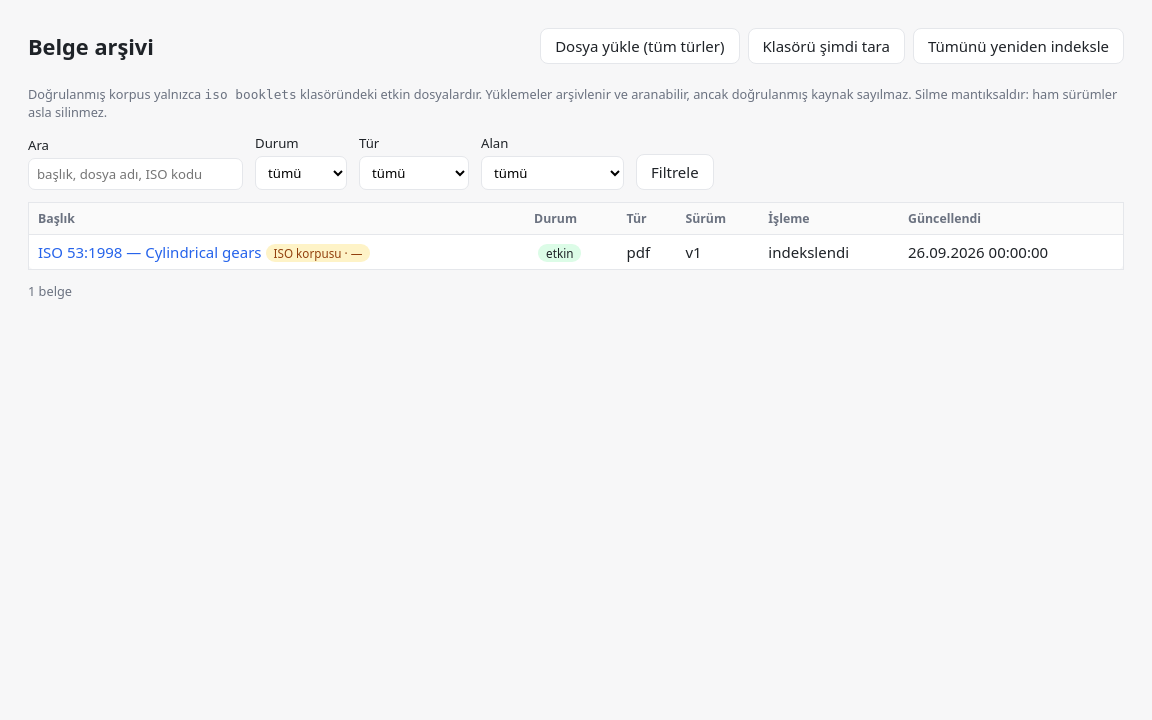
Test: Belge arşivi › yeniden indeksleme mesajı kalıcıdır ve silme ayrı onay ister
Click the button "ISO 53:1998 — Cylindrical gears".
click(150, 252)  # box [38,242,262,262]
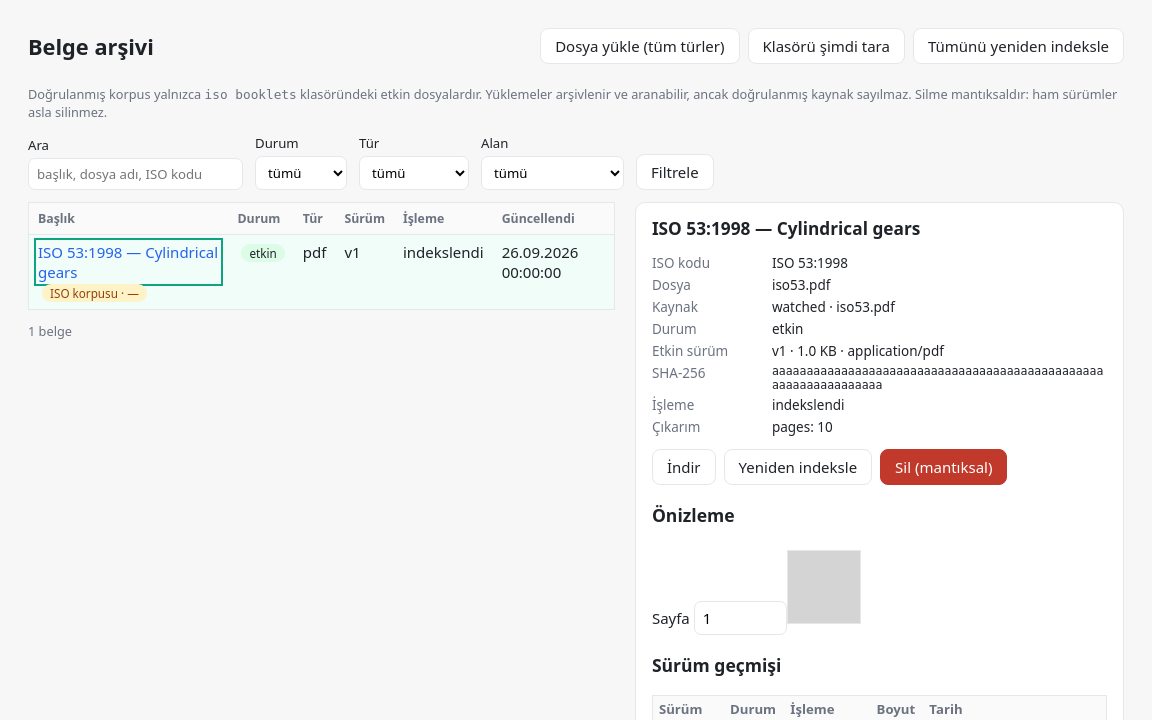
Check: the heading "ISO 53:1998 — Cylindrical gears" is shown, box [652,216,920,240]
Click the button "Yeniden indeksle".
click(798, 467)  # box [724,449,872,485]
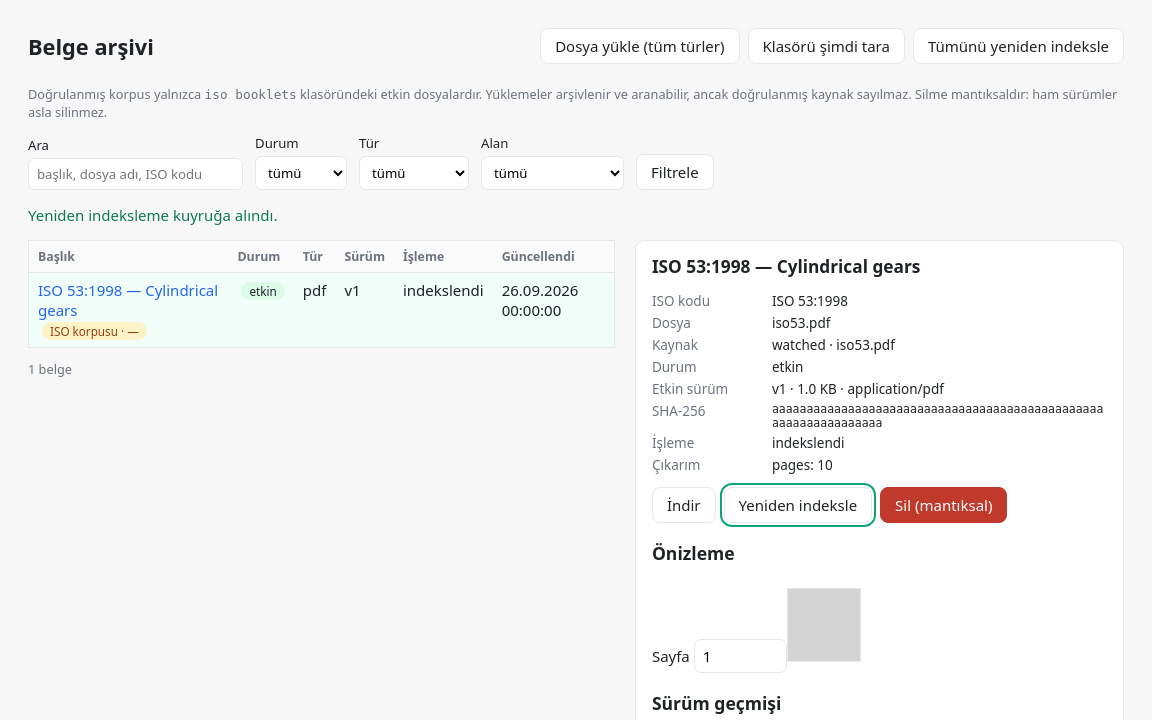
Check: the text "Yeniden indeksleme kuyruğa alındı." is shown, box [28,204,277,224]
Click the button "Sil (mantıksal)".
click(944, 505)  # box [880,487,1008,523]
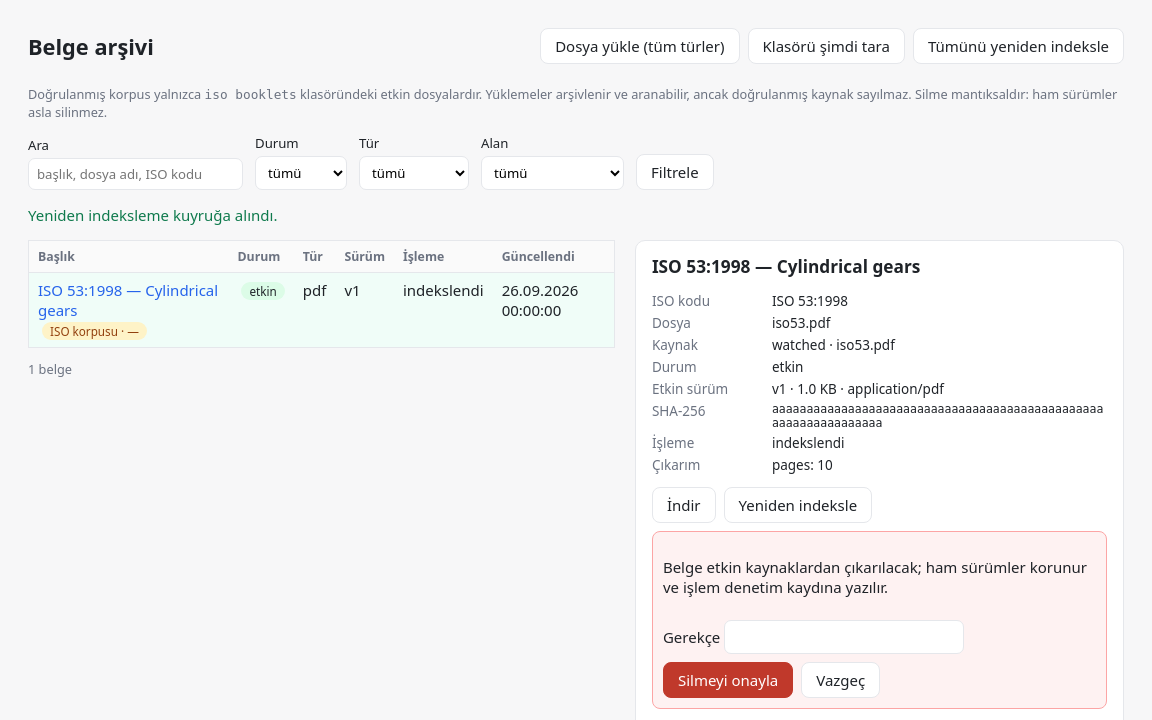
Check: the dialog named "Silme onayı" shows "ham sürümler korunur", box [663,557,1087,597]
Type "eski revizyon" into the field labelled "Gerekçe".
click(844, 637); type("eski revizyon")  # box [724,620,964,654]
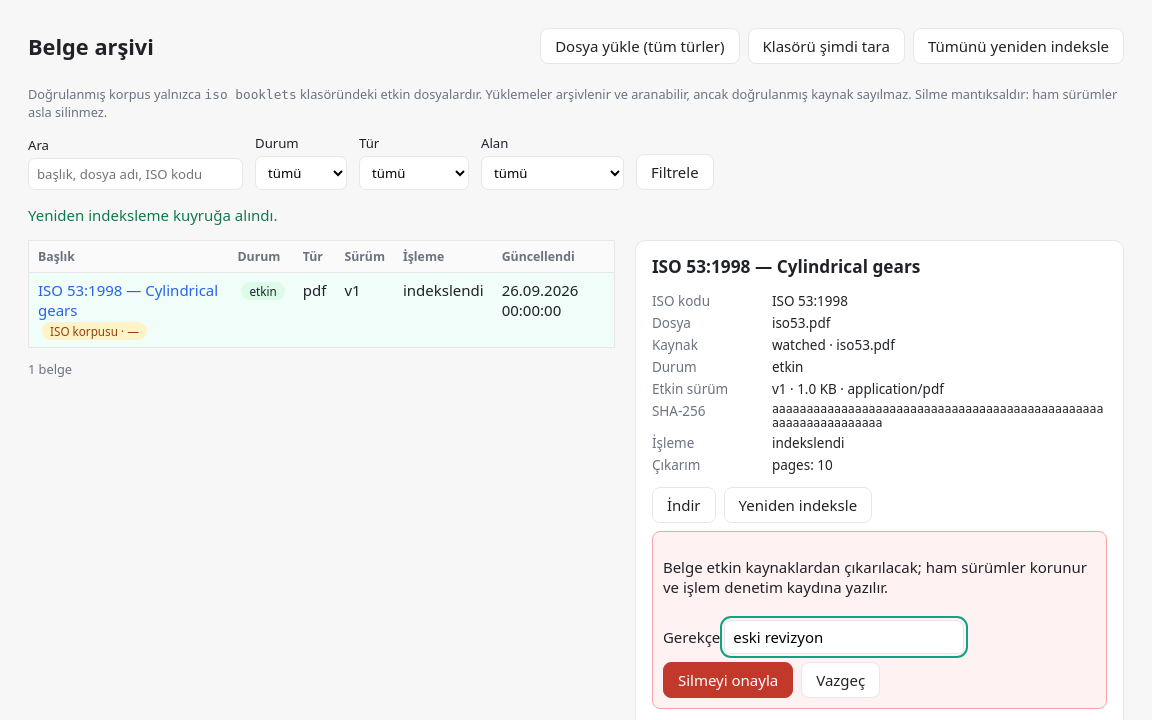
Click the button "Silmeyi onayla".
click(728, 680)  # box [663,662,793,698]
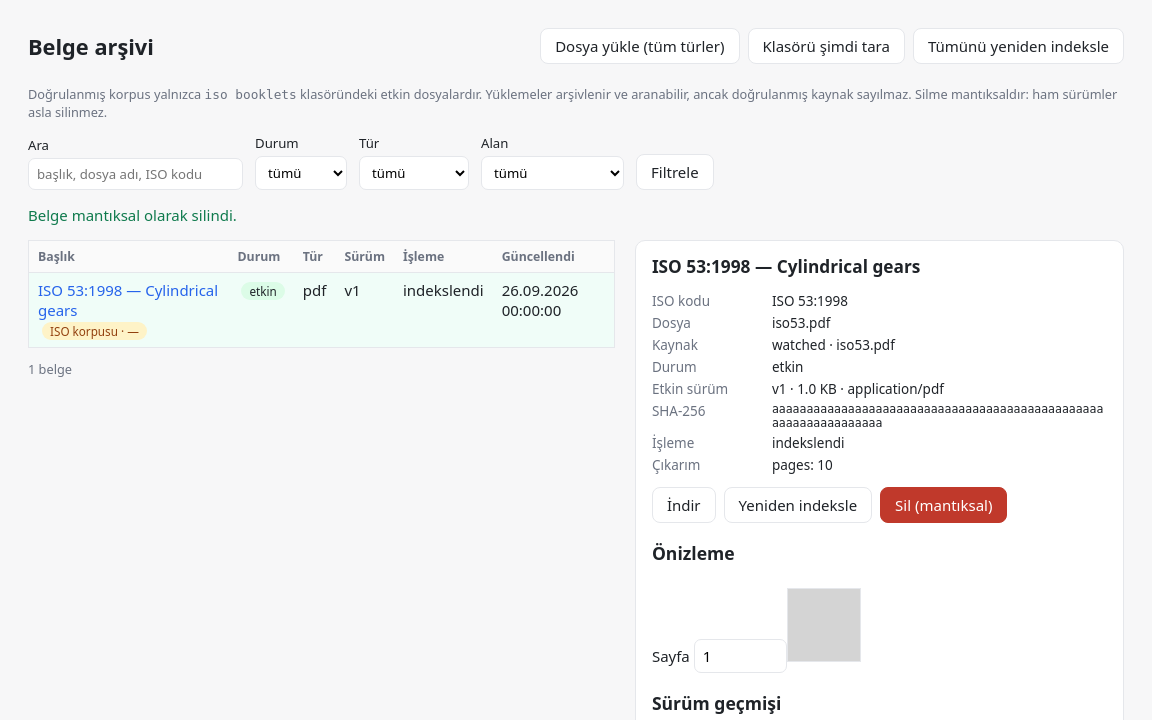
Check: the text "Belge mantıksal olarak silindi." is shown, box [28,204,237,224]
